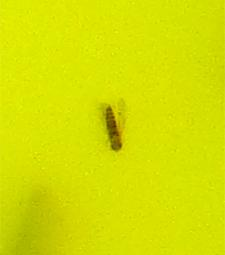Hemiptera: (100, 100, 125, 155)
